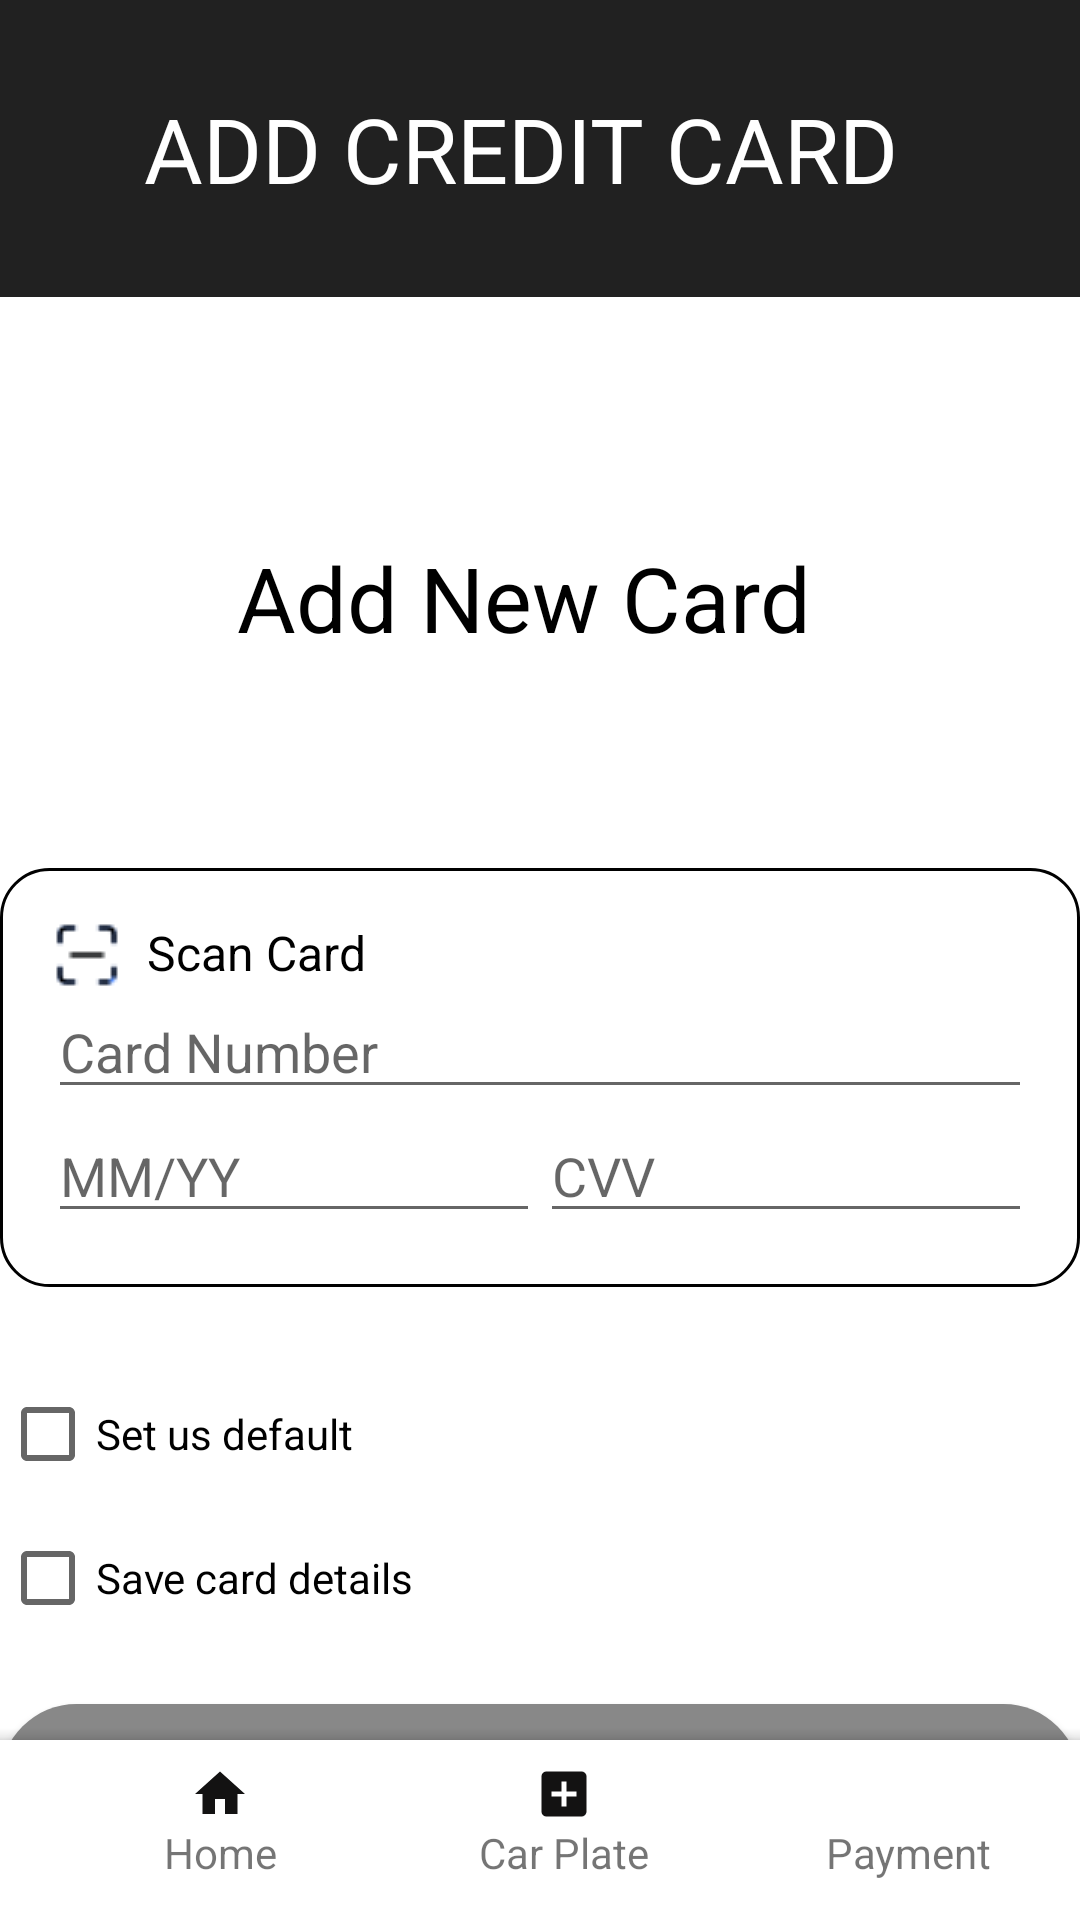

Where icons sit on this 1080 × 1920 app screen, as bbox(x1, y1, x2, y2):
add box: bbox(541, 1771, 587, 1817)
